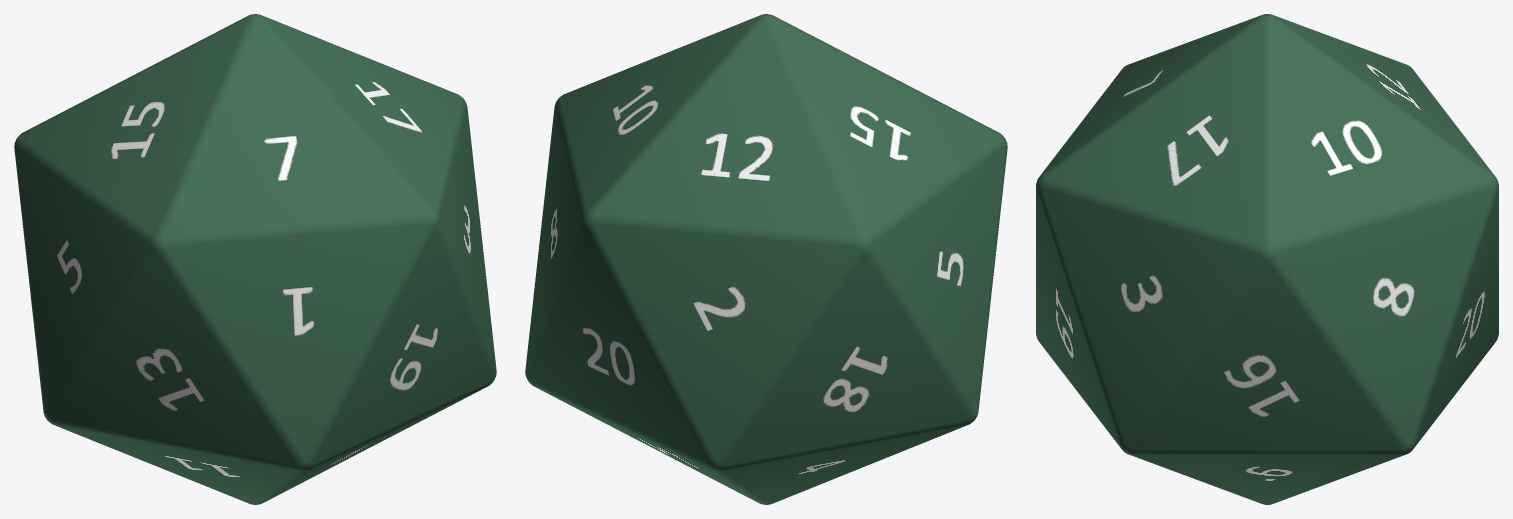
File: dice_d20.glb
The picture shows the model from 3 angles, left to right: view 1: azimuth 30°, elevation 25°; view 2: azimuth 150°, elevation 25°; view 3: azimuth 270°, elevation 25°; orthographic projection.
Visible parts, largest first — view 1: D20; view 2: D20; view 3: D20.
Boxes of the visible parts, bbox=[...] form: D20: bbox=[14, 14, 496, 504]; D20: bbox=[525, 14, 1007, 504]; D20: bbox=[1036, 14, 1498, 504].
Size of the model in its own units: 0.0492 by 0.0545 by 0.0469.
1 material, 1 textured.
